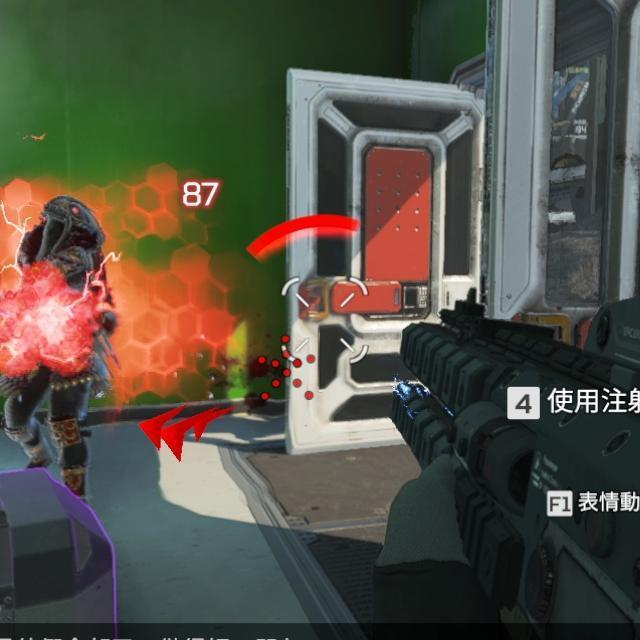avatar: (0, 195, 116, 507)
object: (0, 256, 95, 379)
